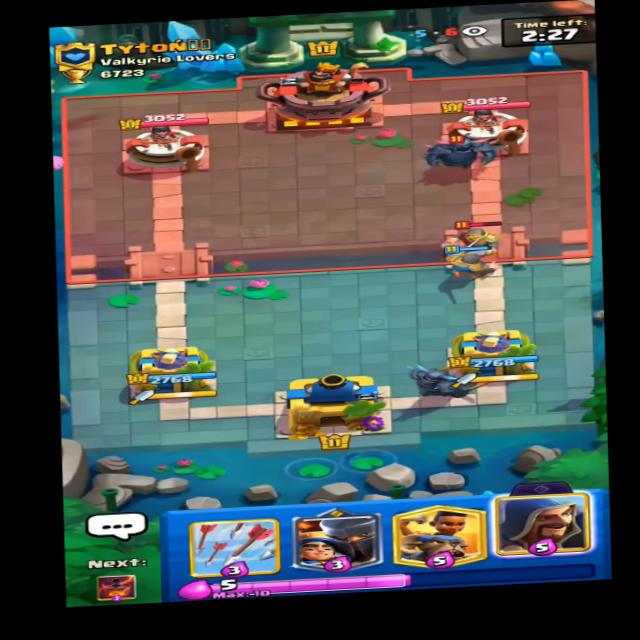knight: (443, 217, 520, 258)
pekka: (423, 127, 506, 172)
